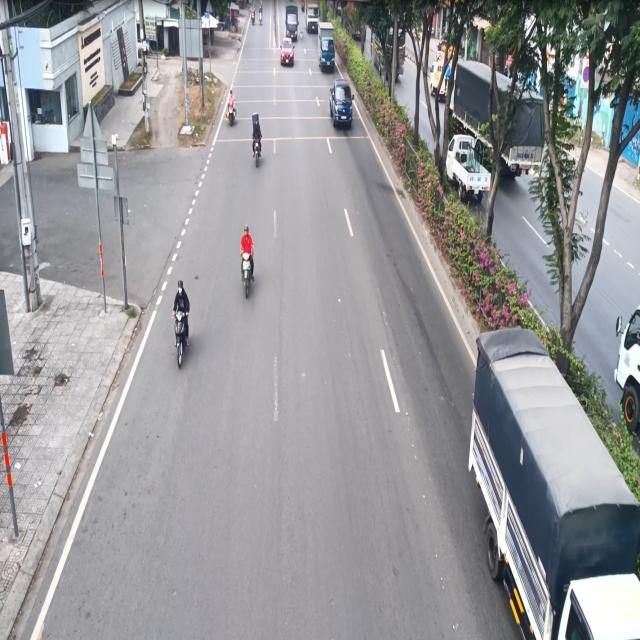car: (278, 33, 295, 67)
motor: (172, 278, 190, 364), (238, 215, 255, 294), (252, 107, 266, 162), (226, 85, 238, 135)
truck: (466, 309, 639, 640), (330, 78, 356, 136), (318, 19, 338, 75)
